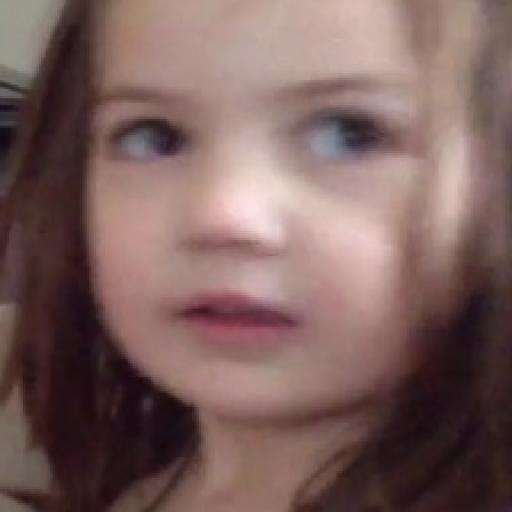Autism: (79, 1, 512, 491)
